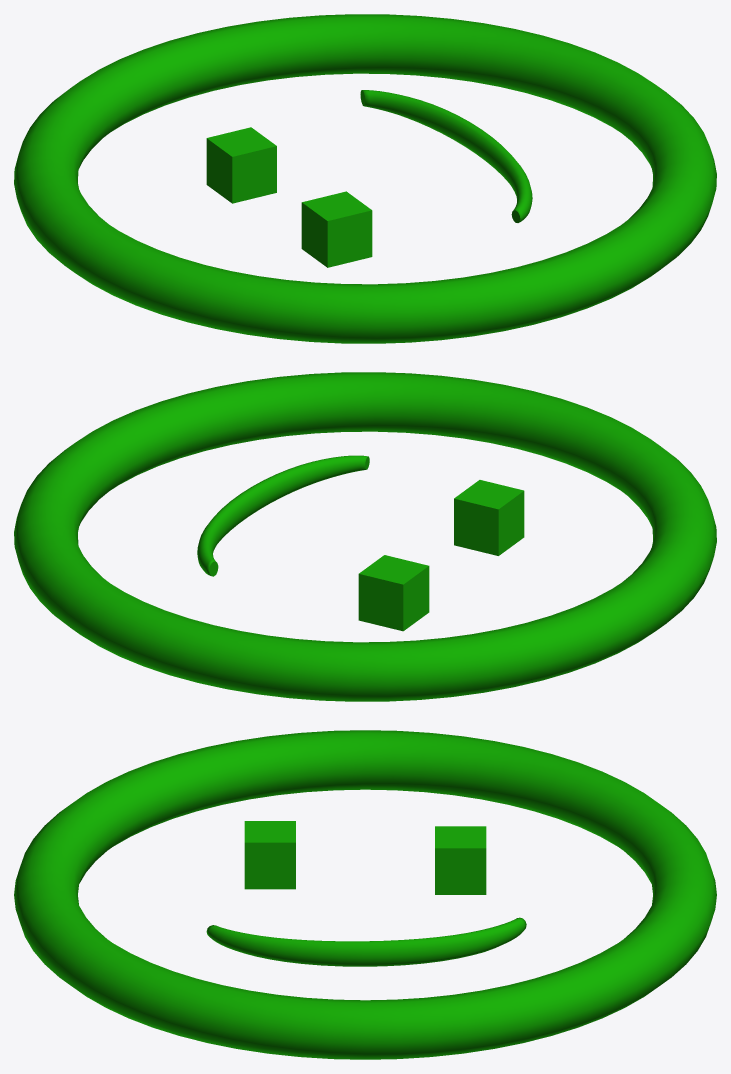
File: Smiley_Joy_nonasian.fbx
The picture shows the model from 3 angles, top to bottom: view 1: azimuth 30°, elevation 25°; view 2: azimuth 150°, elevation 25°; view 3: azimuth 270°, elevation 25°; orthographic projection.
Visible parts, largest first — view 1: Smiley_Joy; view 2: Smiley_Joy; view 3: Smiley_Joy.
Part boxes in pixels (x1,y1,x2,y2): Smiley_Joy: [14, 14, 716, 343]; Smiley_Joy: [14, 372, 716, 701]; Smiley_Joy: [14, 730, 716, 1059].
Bounding box in the file's own units: 240 × 20 × 240.
